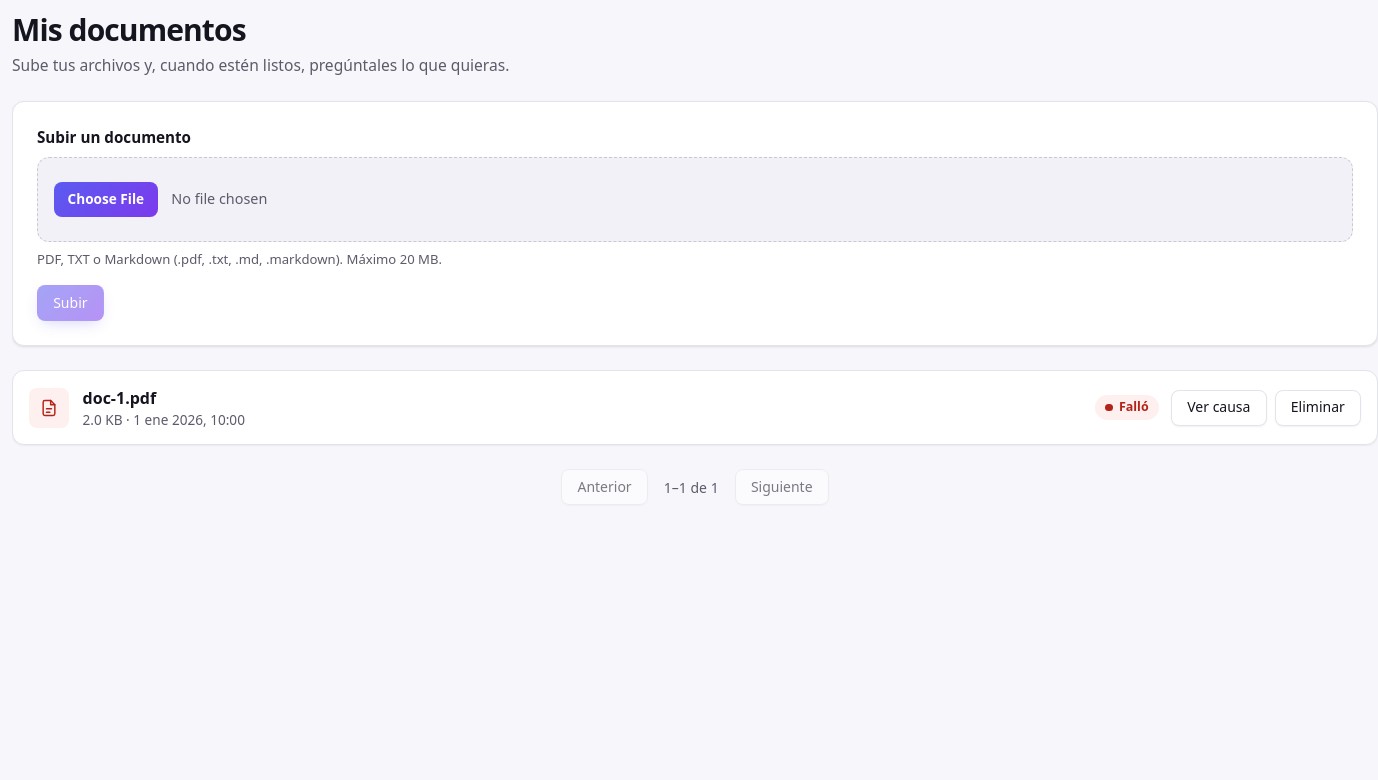
Test: subida e ingestión › un documento que falla al procesarse muestra su causa
This screenshot has width=1378, height=780.
Expected: the text "Falló" is shown, [1095, 395, 1159, 420]
Click the button "Ver causa" at (1219, 408), box [1171, 390, 1267, 426]
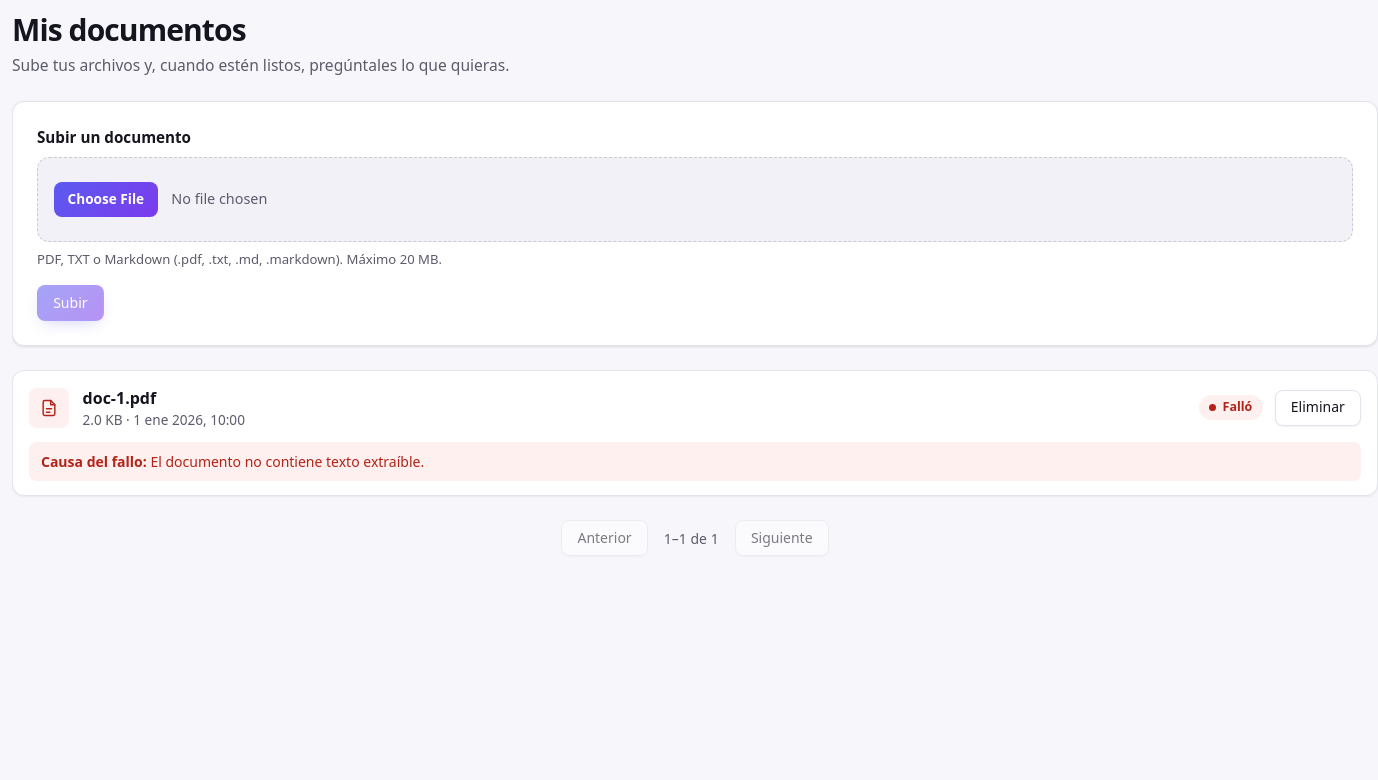
Now the text "El documento no contiene texto extraíble." is shown, box [150, 452, 424, 471]
